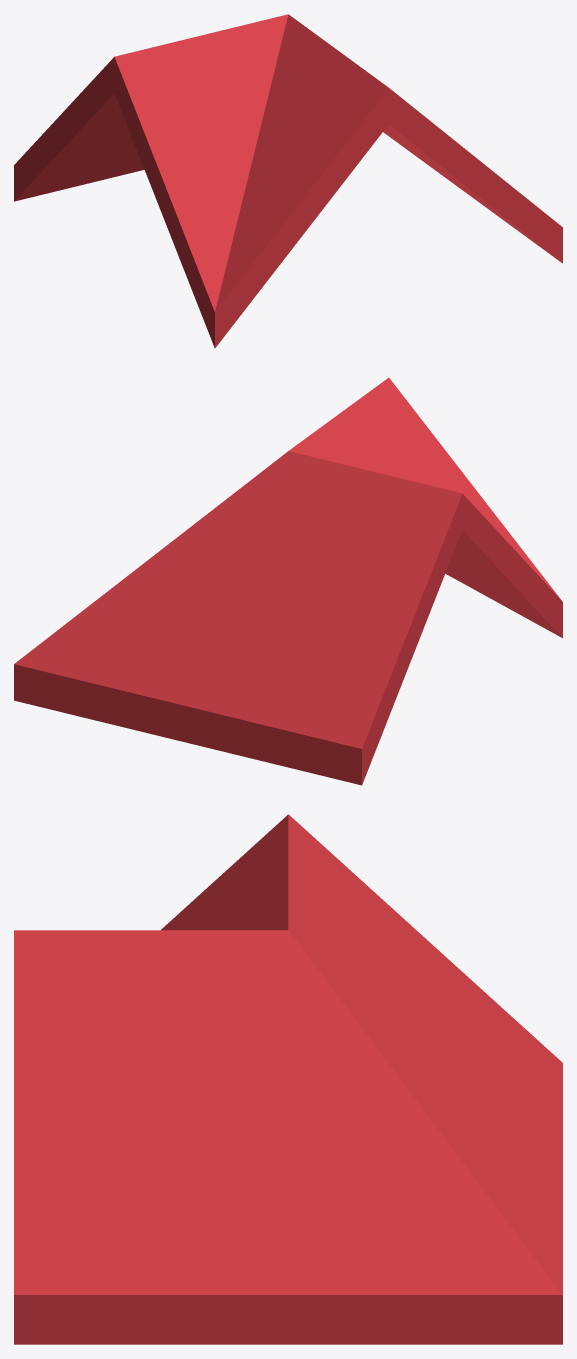
The model's file is roof_2_corner.glb.
3 renders of one model, top to bottom at view 1: azimuth 30°, elevation 25°; view 2: azimuth 150°, elevation 25°; view 3: azimuth 270°, elevation 25°, orthographic. The views are drawn at different scales.
Visible parts, largest first — view 1: roof_2_corner; view 2: roof_2_corner; view 3: roof_2_corner.
Part boxes in pixels (left/top/right/bottom): roof_2_corner: left=14, top=14, right=562, bottom=347; roof_2_corner: left=14, top=377, right=562, bottom=785; roof_2_corner: left=14, top=814, right=562, bottom=1344.
Size of the model in its own units: 1 by 0.6 by 1.
